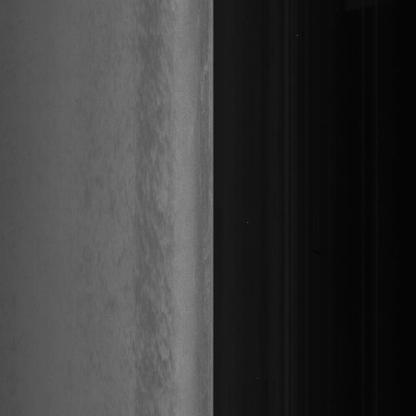silk_spot: (133, 129, 185, 236)
